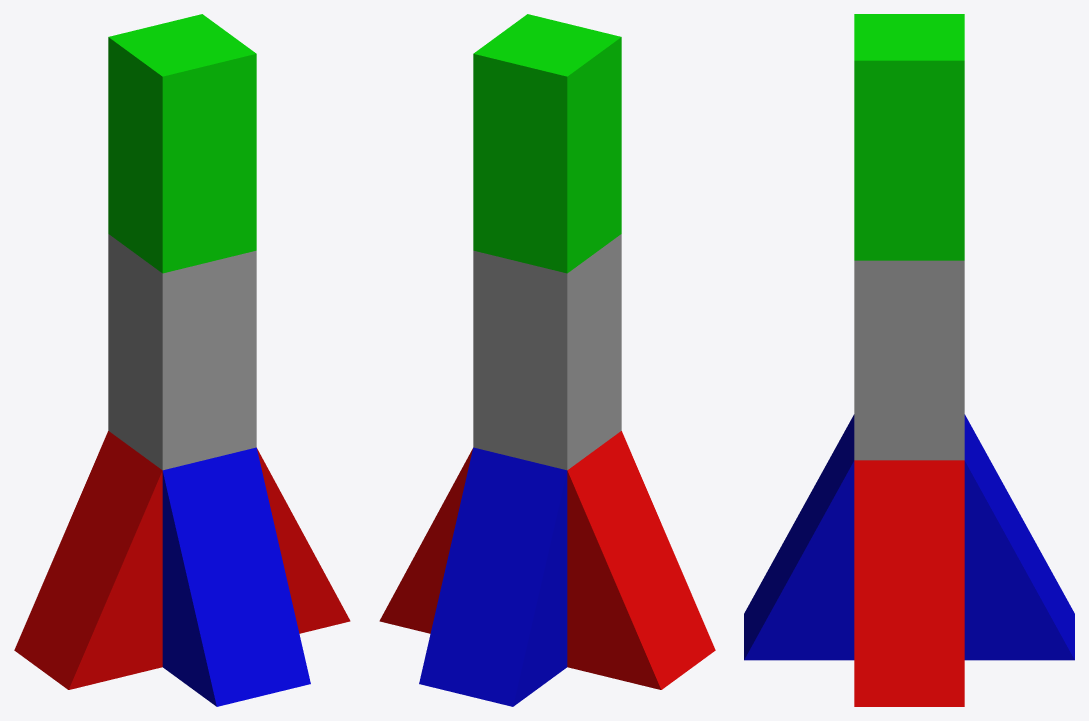
Rendered from TestBullet.fbx.
The picture shows the model from 3 angles, left to right: view 1: azimuth 30°, elevation 25°; view 2: azimuth 150°, elevation 25°; view 3: azimuth 270°, elevation 25°; orthographic projection.
Parts seen in each view (by area): view 1: pCube13; view 2: pCube13; view 3: pCube13.
Boxes of the visible parts, bbox=[...] form: pCube13: bbox=[14, 14, 350, 706]; pCube13: bbox=[379, 14, 715, 706]; pCube13: bbox=[744, 14, 1074, 706].
Bounding box in the file's own units: 1.5 × 3 × 1.5.
